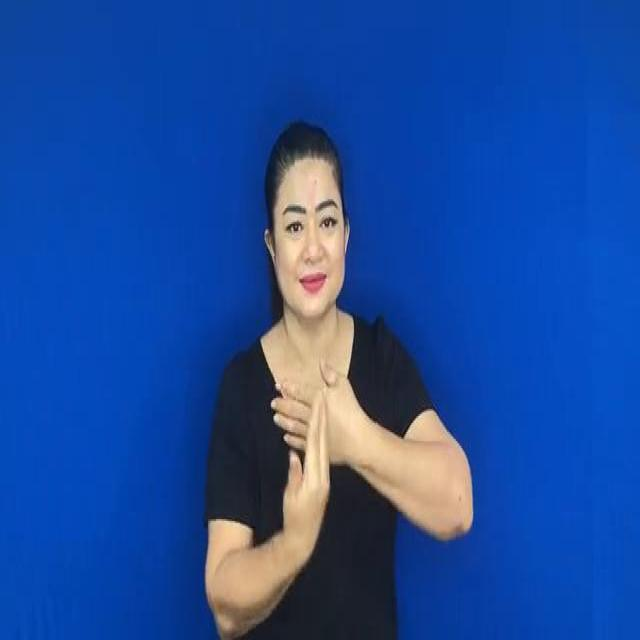bread: (268, 370, 370, 571)
